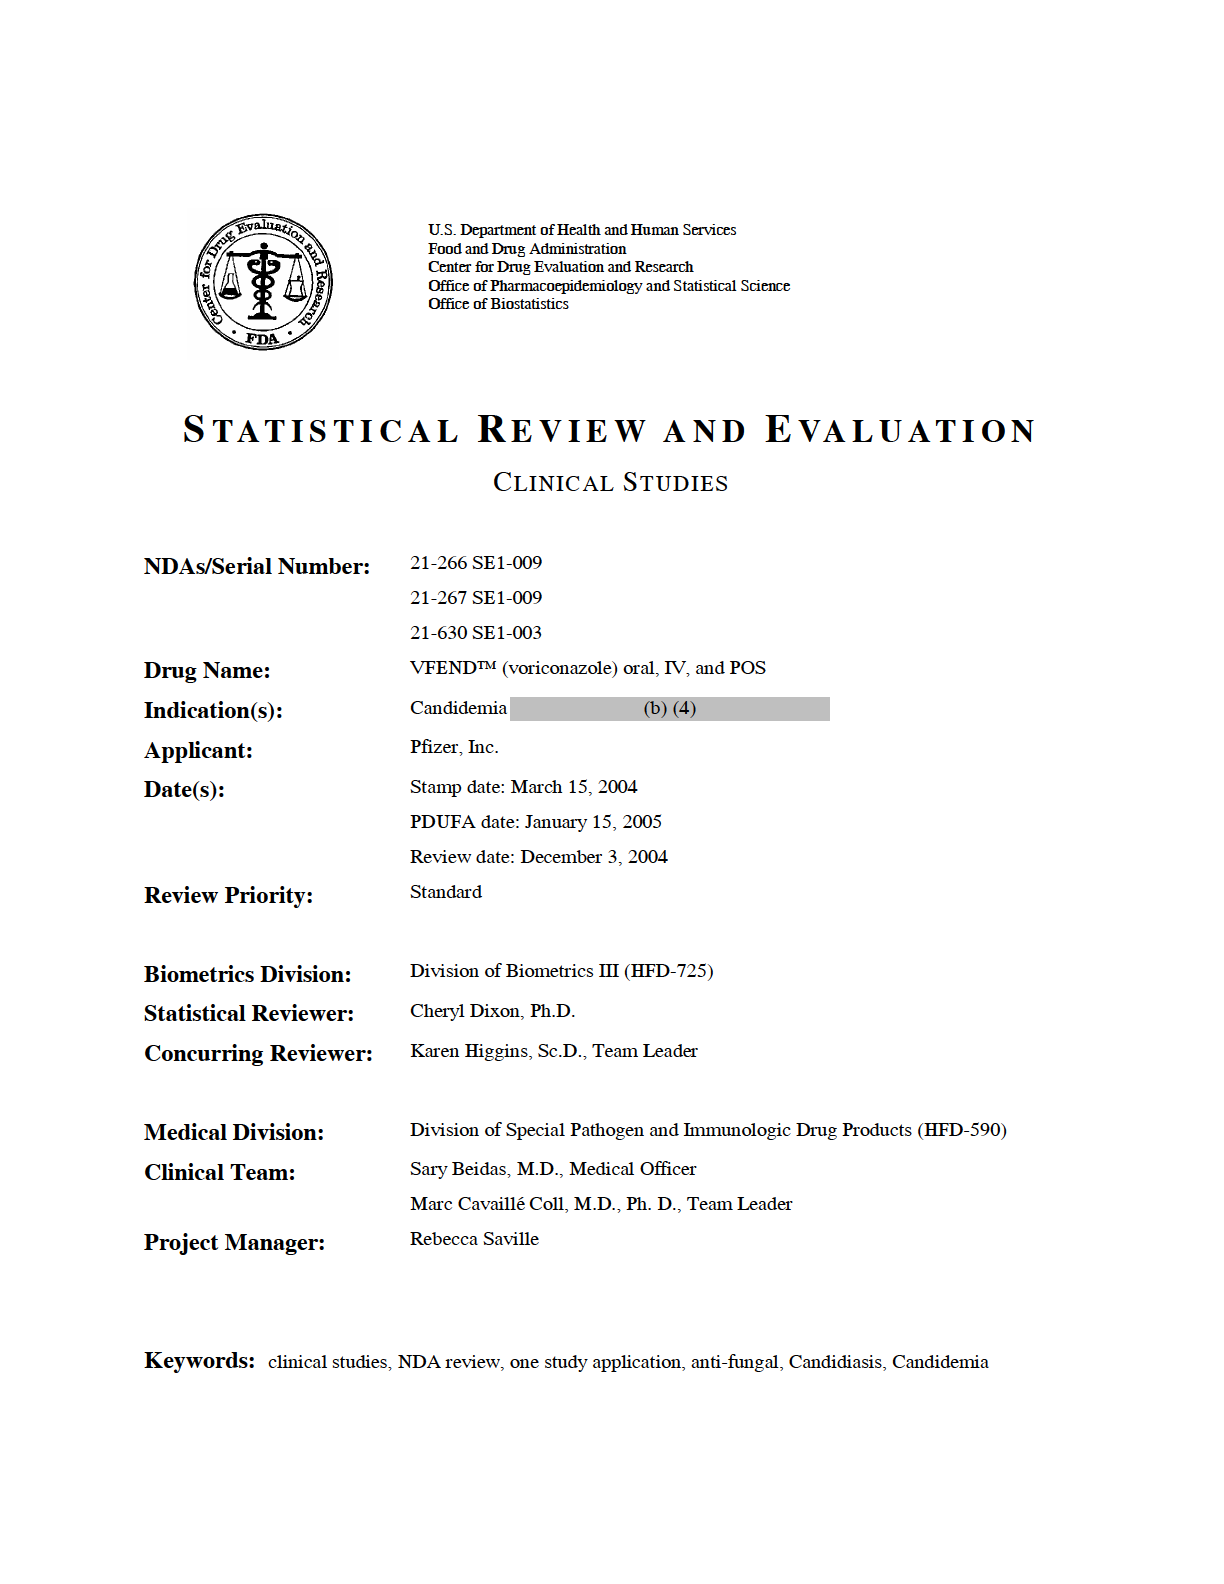nolines: (141, 554, 1011, 1260)
